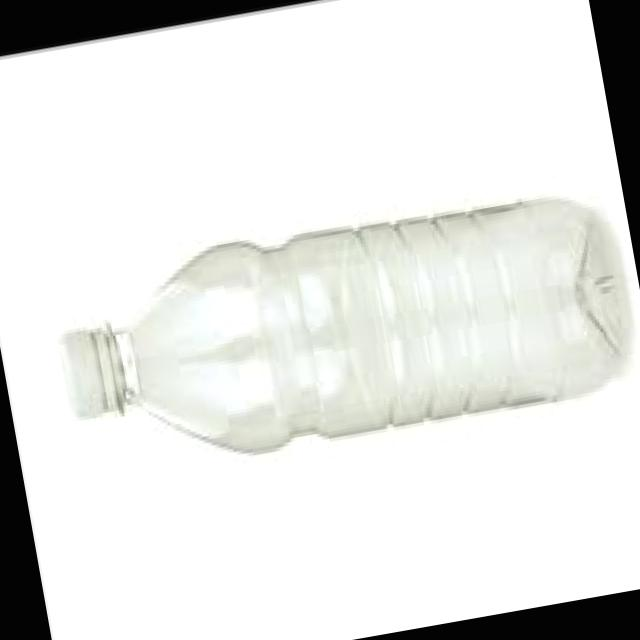plastic: (37, 145, 640, 530)
